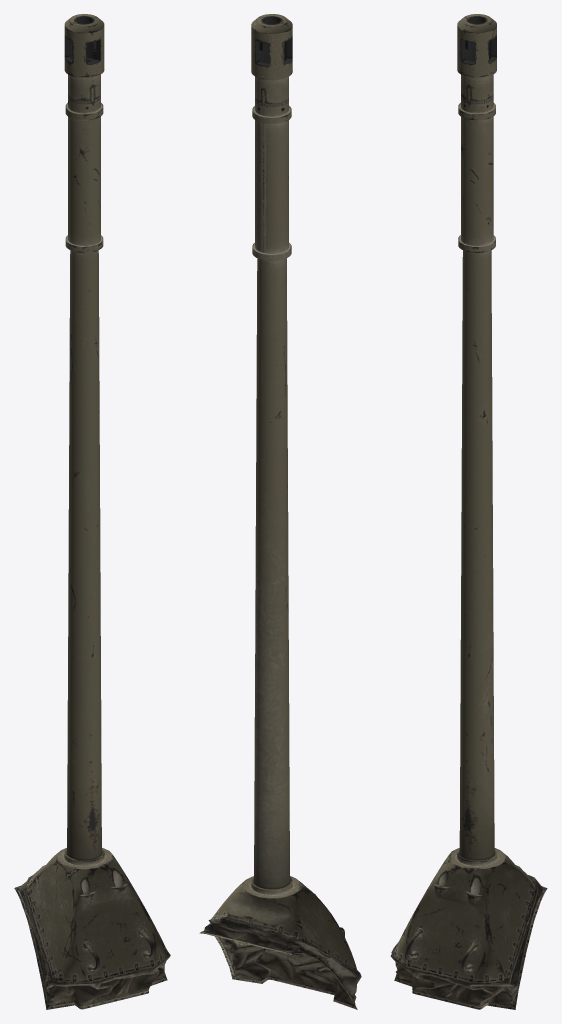
The model's file is Gun_01.glb.
The picture shows the model from 3 angles, left to right: view 1: azimuth 30°, elevation 25°; view 2: azimuth 150°, elevation 25°; view 3: azimuth 330°, elevation 25°; orthographic projection. The views are drawn at different scales.
Parts seen in each view (by area): view 1: set_0_group_0; view 2: set_0_group_0; view 3: set_0_group_0.
Part boxes in pixels (x1,y1,x2,y2): set_0_group_0: (14,14,170,1009); set_0_group_0: (199,14,361,1009); set_0_group_0: (391,14,547,1009).
Bounding box in the file's own units: 0.8934 × 6.66 × 0.8469.
1 material, 1 textured.
